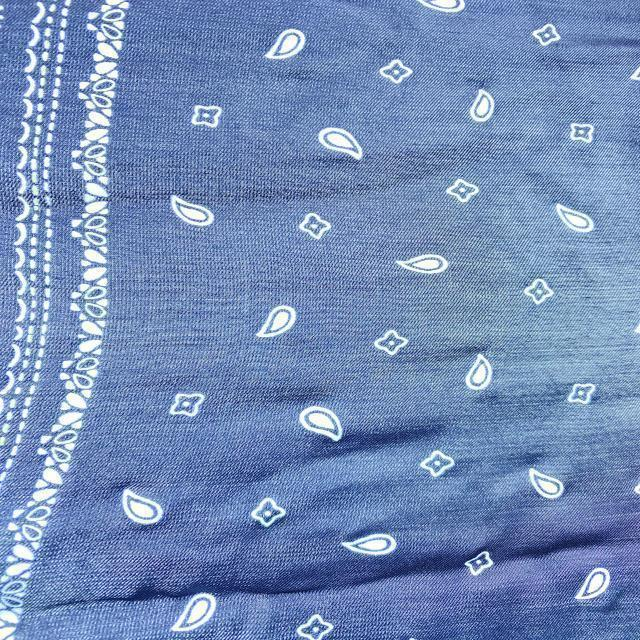broken_yarn: (8, 524, 616, 611), (302, 416, 449, 472)
